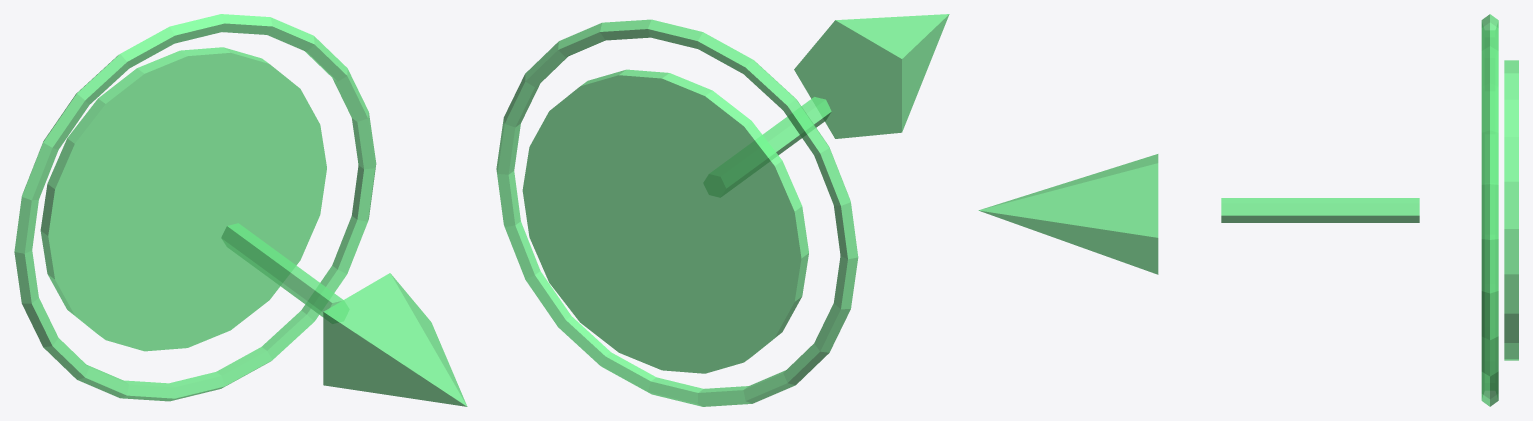
File: objective_arrow_marker.glb
The picture shows the model from 3 angles, left to right: view 1: azimuth 30°, elevation 25°; view 2: azimuth 150°, elevation 25°; view 3: azimuth 270°, elevation 25°; orthographic projection. The views are drawn at different scales.
Visible parts, largest first — view 1: marker_disc, marker_ring, arrow_head, arrow_stem; view 2: marker_disc, marker_ring, arrow_head, arrow_stem; view 3: arrow_head, marker_ring, arrow_stem, marker_disc.
Part boxes in pixels (box(x1,y1,x2,y2)): marker_disc: box(40, 47, 326, 351); marker_ring: box(14, 14, 376, 401); arrow_head: box(323, 273, 467, 406); arrow_stem: box(221, 223, 343, 317); marker_disc: box(522, 69, 808, 373); marker_ring: box(496, 19, 858, 406); arrow_head: box(794, 14, 949, 138); arrow_stem: box(762, 97, 831, 155); arrow_head: box(978, 154, 1158, 274); marker_ring: box(1481, 14, 1498, 406); arrow_stem: box(1221, 198, 1419, 222); marker_disc: box(1504, 60, 1518, 360).
Bounding box in the file's own units: 1.09 × 1.08 × 1.5.
